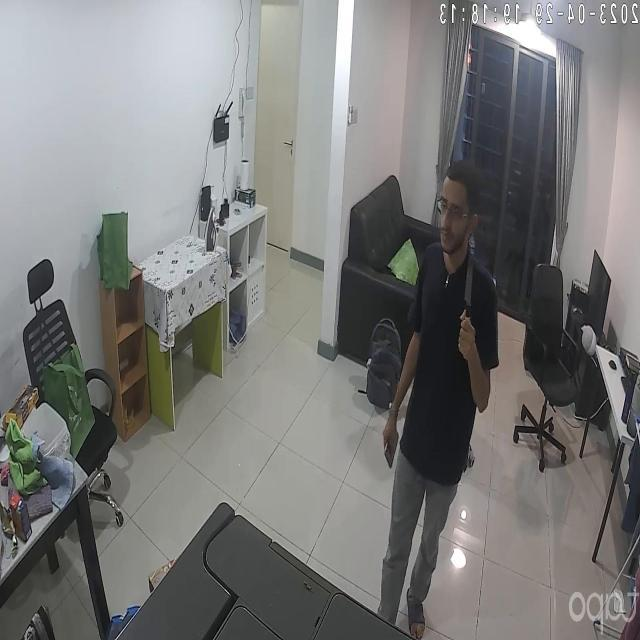Knife: (448, 248, 494, 318)
